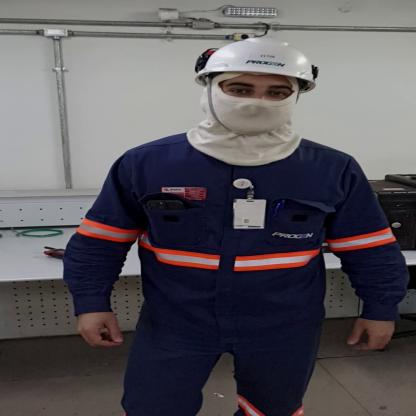Balaclava: (169, 76, 312, 168)
Capacete: (189, 35, 335, 90)
